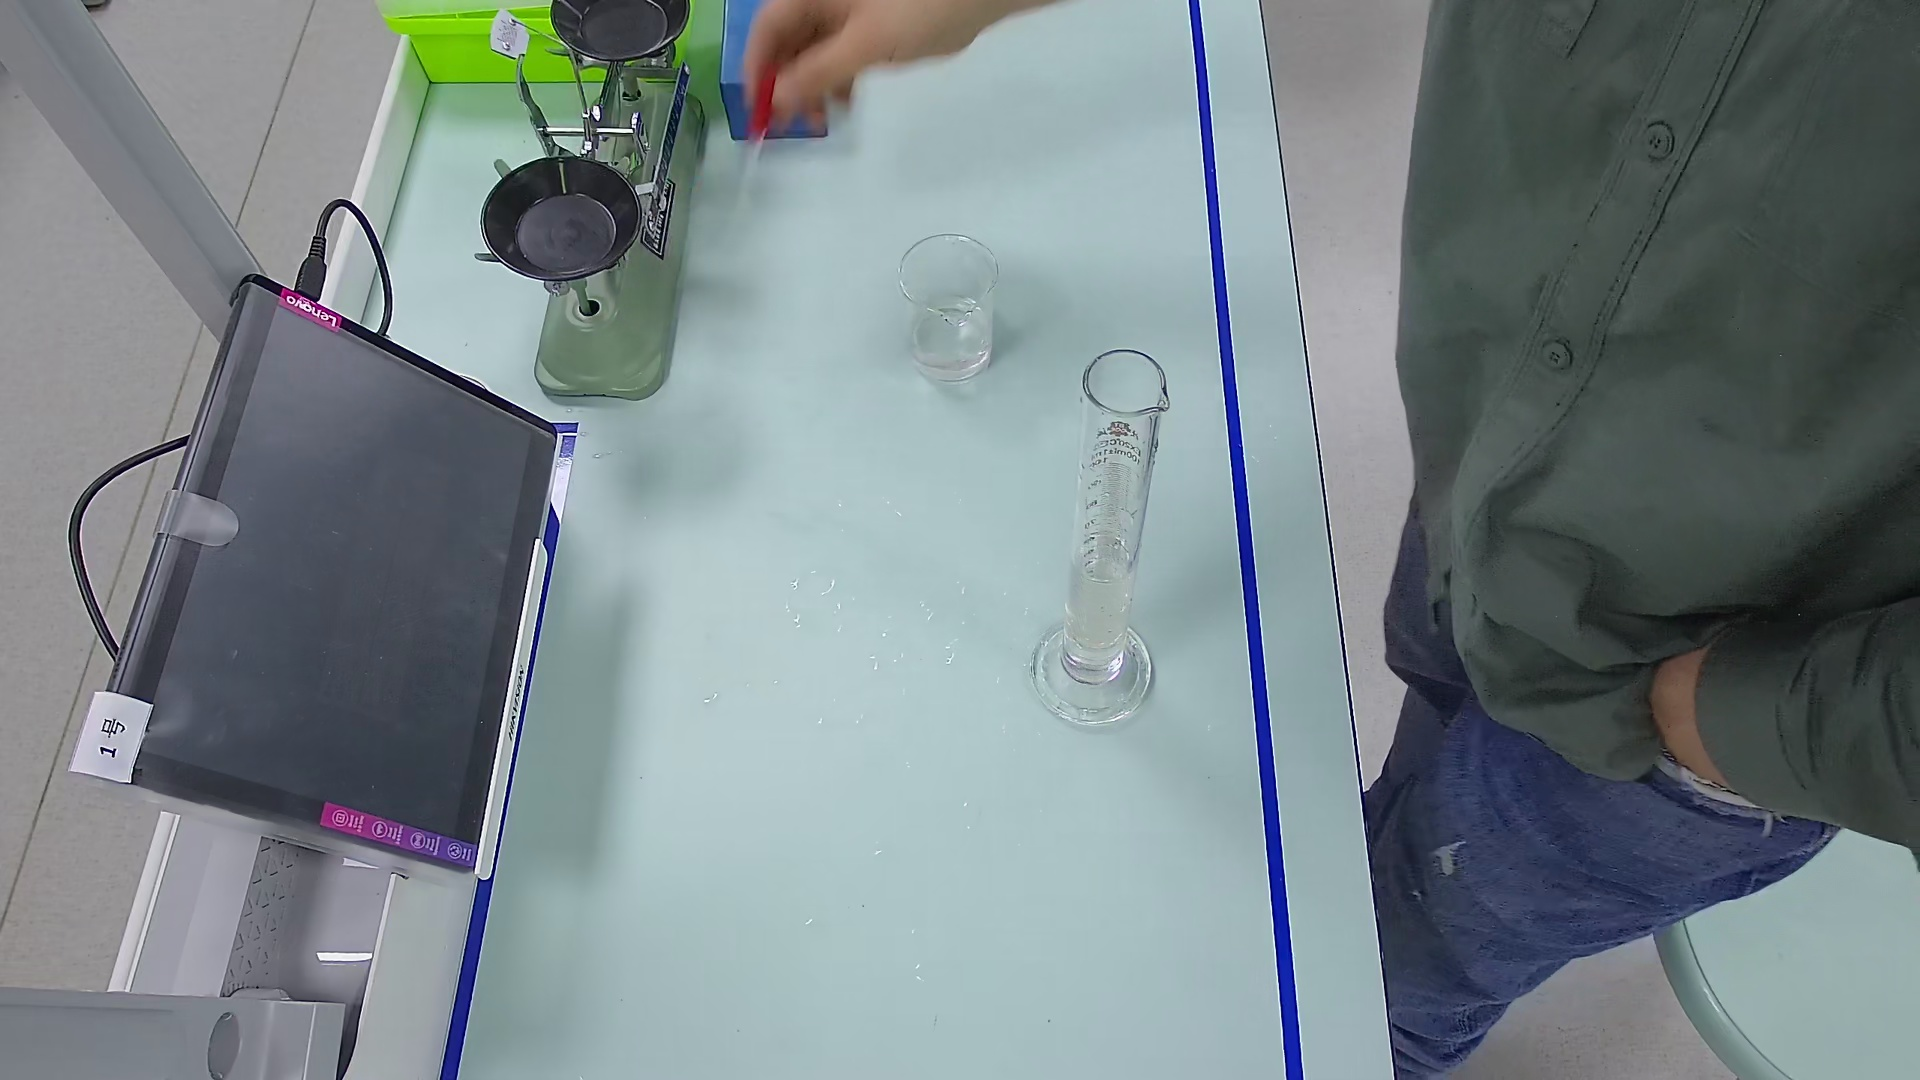ao: (1077, 535, 1135, 576)
bei: (891, 233, 1010, 386)
hand: (735, 1, 982, 111)
liangdi: (1036, 625, 1170, 732)
liangtong: (1027, 345, 1174, 725)
tuo: (471, 146, 641, 285), (549, 1, 692, 65)
